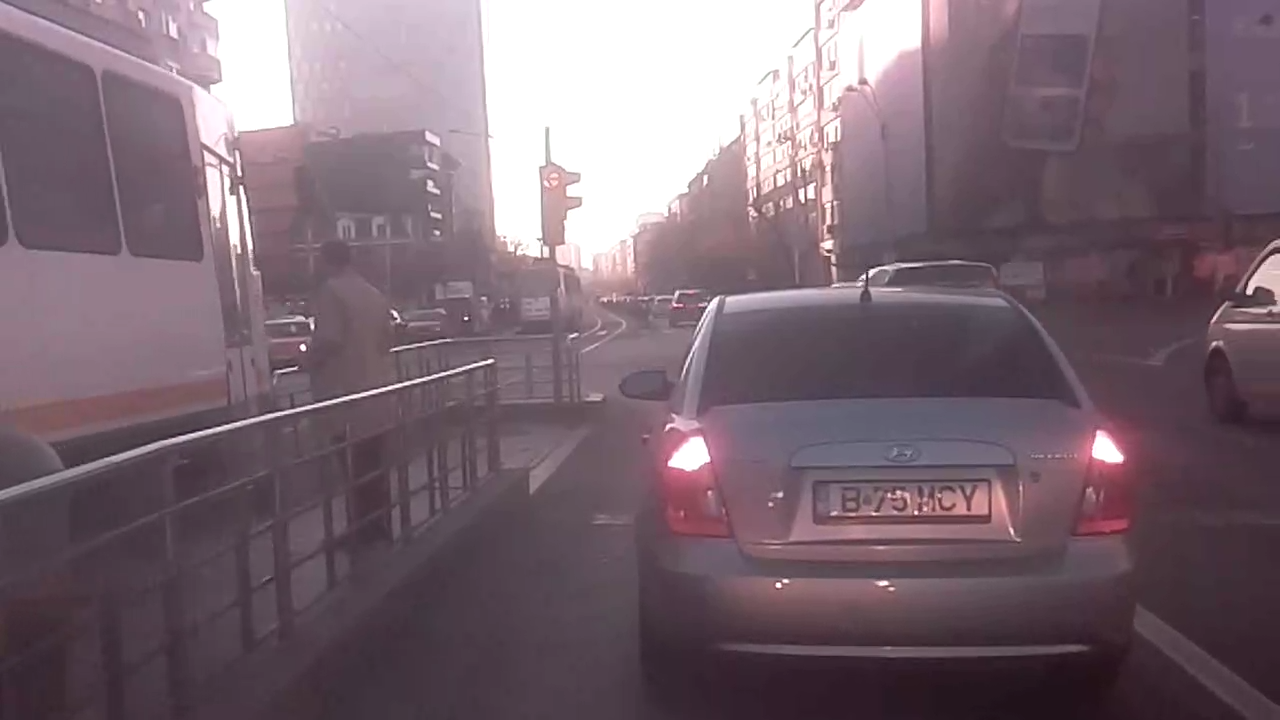license-plate: (806, 473, 998, 525)
